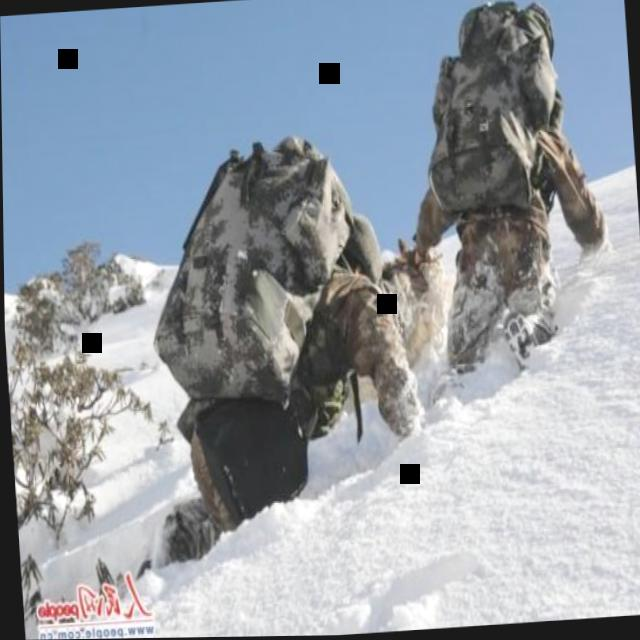Fall-Detected: (386, 0, 630, 399)
